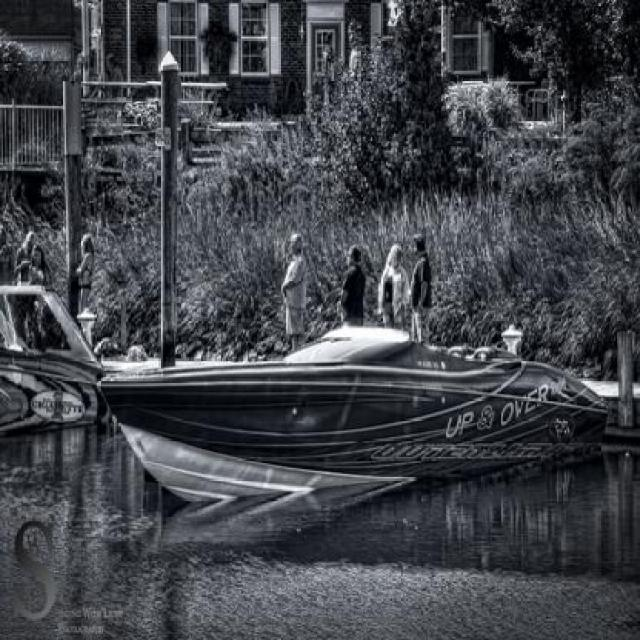ship: (91, 321, 609, 542)
